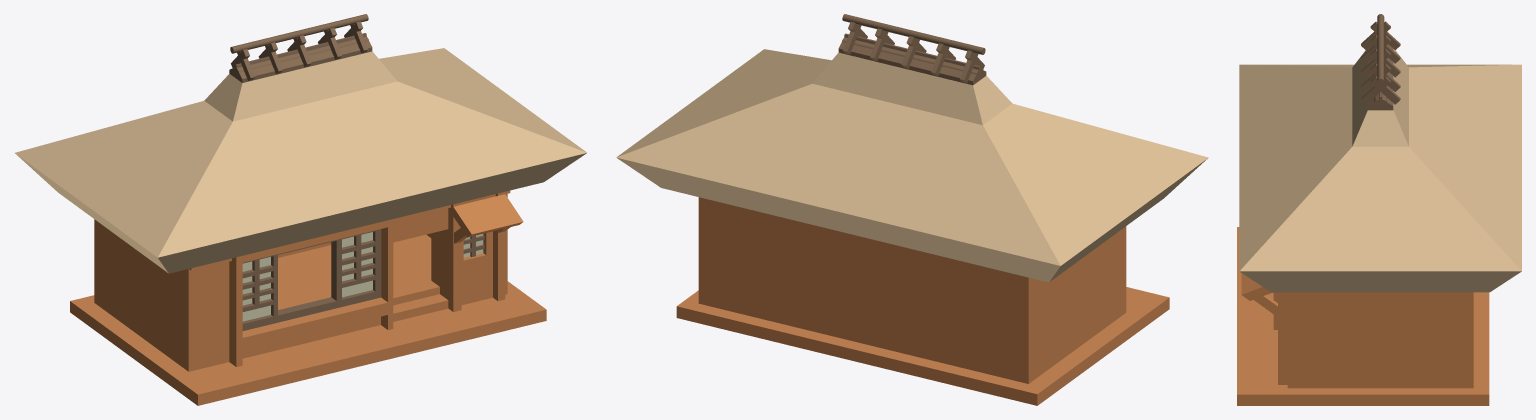
The model's file is FamilyHouseRedesigned.fbx.
The picture shows the model from 3 angles, left to right: view 1: azimuth 30°, elevation 25°; view 2: azimuth 150°, elevation 25°; view 3: azimuth 270°, elevation 25°; orthographic projection. The views are drawn at different scales.
Parts seen in each view (by area): view 1: ThatchedRoof, WoodenStructure, HouseBase_Patio, WindowFrames, RoofOrnament, Overhang, PaperWindows; view 2: ThatchedRoof, WoodenStructure, HouseBase_Patio, RoofOrnament; view 3: ThatchedRoof, WoodenStructure, HouseBase_Patio, RoofOrnament, Overhang.
Part boxes in pixels (x1,y1,x2,y2): ThatchedRoof: [15, 48, 586, 273]; WoodenStructure: [94, 190, 510, 371]; HouseBase_Patio: [70, 234, 546, 405]; WindowFrames: [242, 229, 484, 330]; RoofOrnament: [229, 14, 372, 82]; Overhang: [453, 194, 523, 243]; PaperWindows: [242, 232, 483, 321]; ThatchedRoof: [616, 49, 1208, 282]; WoodenStructure: [698, 197, 1126, 383]; HouseBase_Patio: [676, 287, 1169, 405]; RoofOrnament: [838, 14, 986, 85]; ThatchedRoof: [1239, 49, 1521, 292]; WoodenStructure: [1273, 292, 1473, 388]; HouseBase_Patio: [1237, 227, 1489, 405]; RoofOrnament: [1361, 14, 1400, 110]; Overhang: [1241, 273, 1277, 317].
Bounding box in the file's own units: 45.63 × 28.34 × 26.55.
